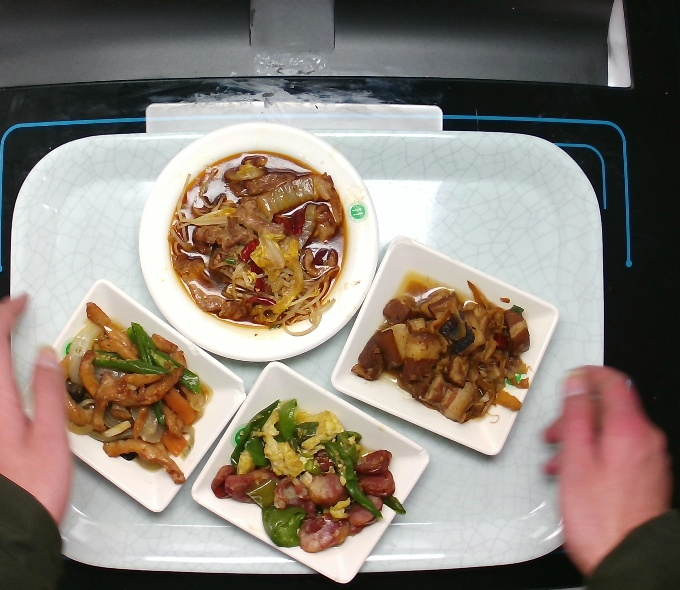wcq-HongShaoRou: (350, 277, 534, 423)
wcq-QingJiaoJiDanChaoDaChang: (209, 395, 409, 556)
wcq-QingJiaoRouSi: (60, 301, 211, 486)
wcq-ShuiZhuRouPian: (167, 149, 349, 329)
